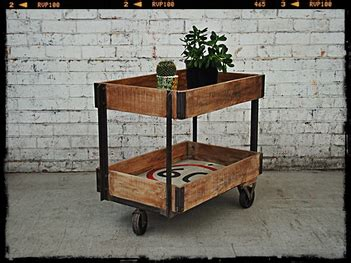Carts: (93, 70, 265, 235)
